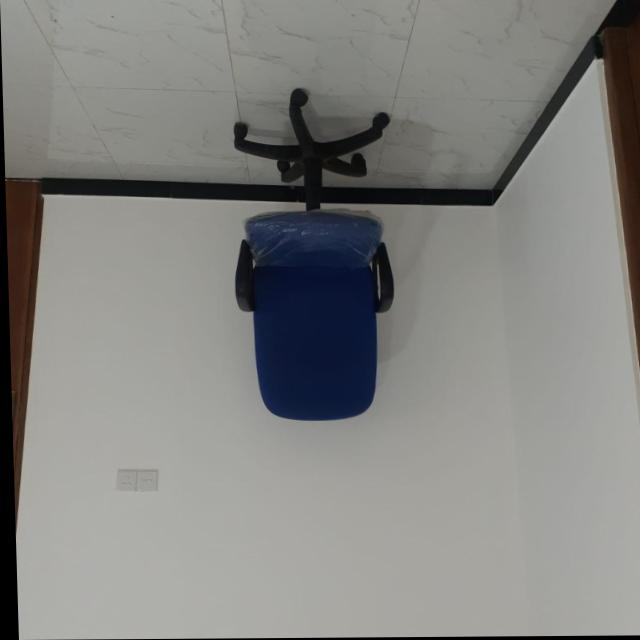Chair: (229, 88, 398, 421)
